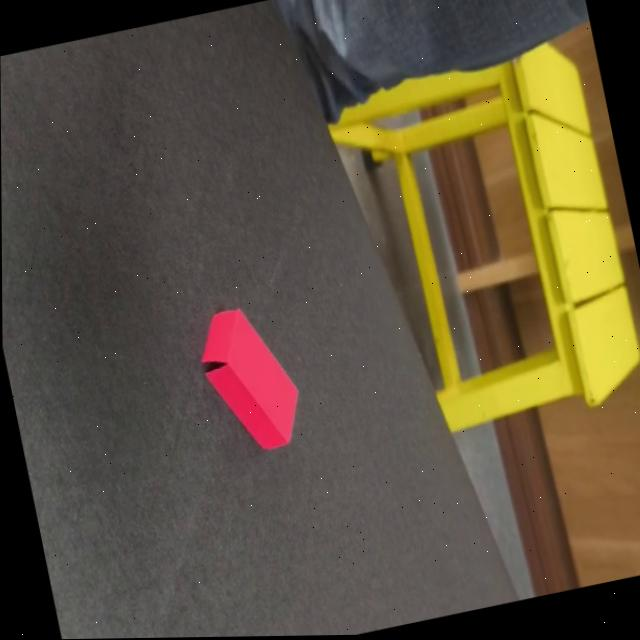red block: (191, 296, 309, 460)
